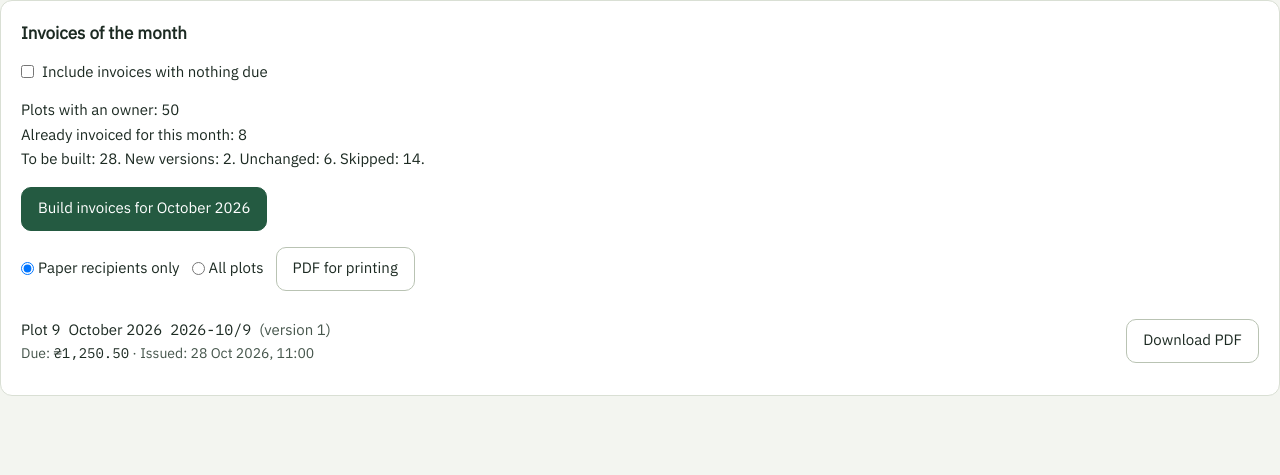
Scenario: MonthInvoicesPanel › shows the limit when the build is too large
This screenshot has width=1280, height=475.
Click the button "Build invoices for October 2026" at (144, 208), box [21,186,268,230]
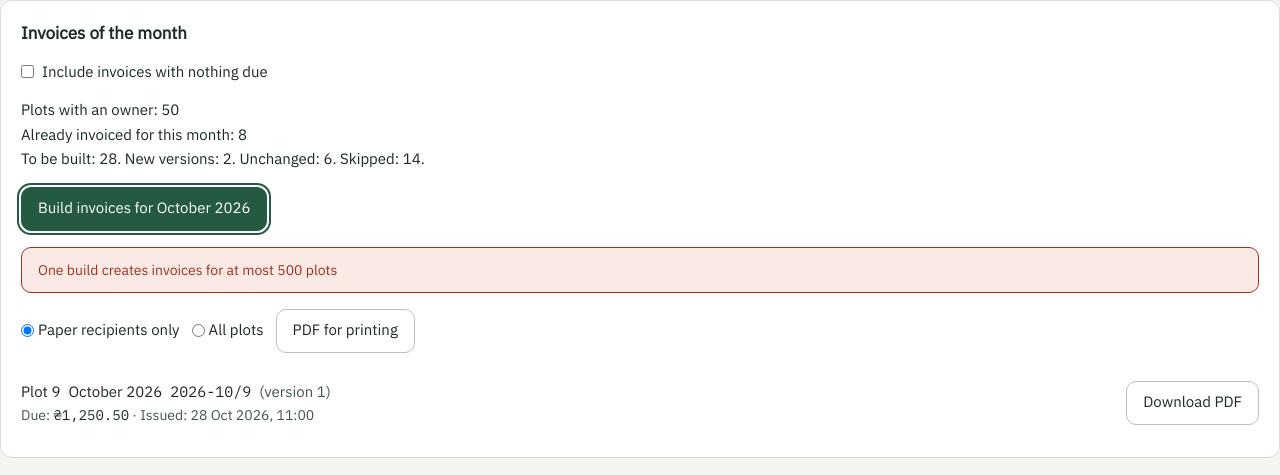
Result: the text "One build creates invoices for at most 500 plots" is shown at [21,246,1259,292]
